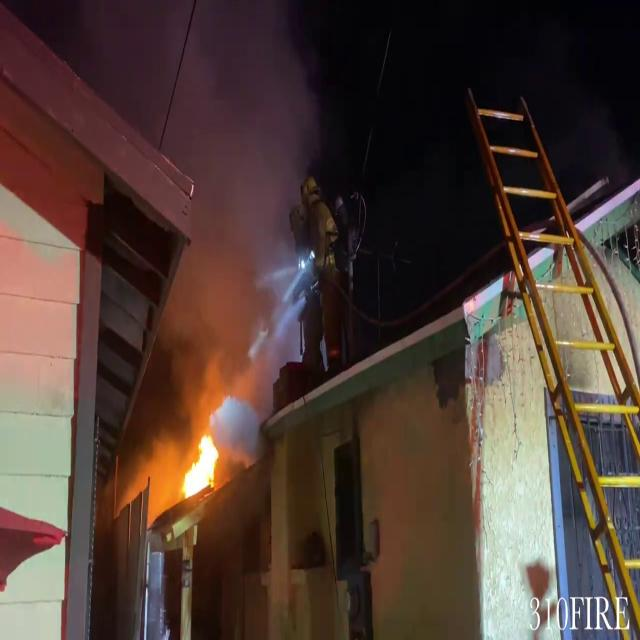Fire: (177, 420, 226, 508)
Smoke: (145, 0, 323, 397)
